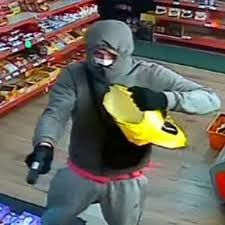gun: (17, 132, 57, 183)
